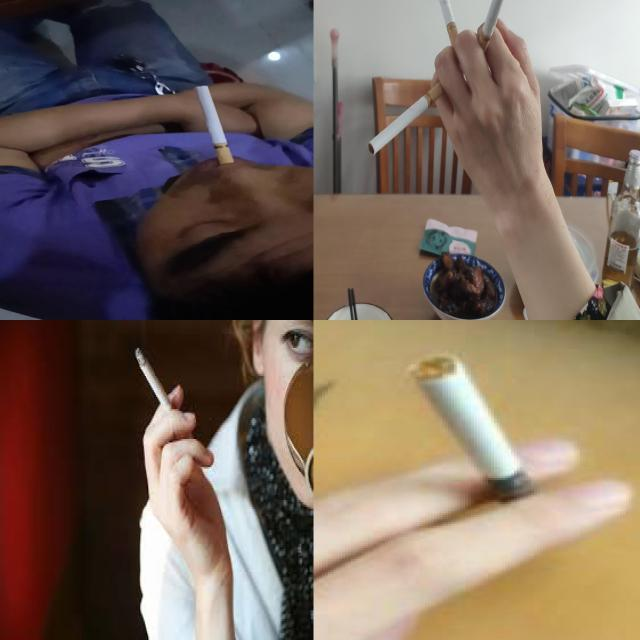smoking: (406, 352, 546, 516), (367, 81, 447, 157), (136, 348, 184, 437), (197, 85, 237, 165), (474, 0, 517, 57), (428, 0, 466, 64)
